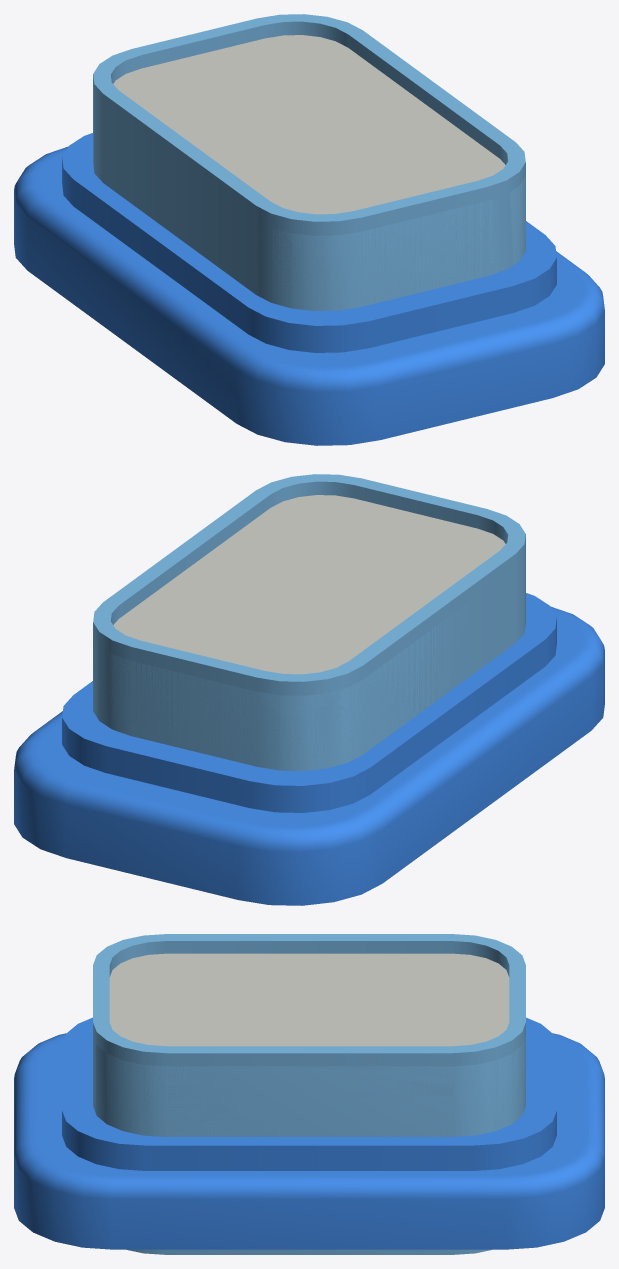
Rendered from ArenaVariant.fbx.
The picture shows the model from 3 angles, top to bottom: view 1: azimuth 30°, elevation 25°; view 2: azimuth 150°, elevation 25°; view 3: azimuth 270°, elevation 25°; orthographic projection. The views are drawn at different scales.
Parts seen in each view (by area): view 1: Cube.013, Cube.014, Cube.011, Cube.012, Cube; view 2: Cube.013, Cube.014, Cube.011, Cube, Cube.012; view 3: Cube.013, Cube, Cube.011, Cube.012, Cube.014.
Part boxes in pixels (<box>): Cube.013: <box>14,146,604,445</box>; Cube.014: <box>93,14,525,310</box>; Cube.011: <box>113,35,505,214</box>; Cube.012: <box>62,133,556,352</box>; Cube: <box>94,23,525,310</box>; Cube.013: <box>14,606,604,905</box>; Cube.014: <box>93,474,525,770</box>; Cube.011: <box>113,495,505,674</box>; Cube: <box>93,483,525,770</box>; Cube.012: <box>62,593,556,812</box>; Cube.013: <box>14,1033,604,1249</box>; Cube: <box>95,942,525,1254</box>; Cube.011: <box>109,953,509,1046</box>; Cube.012: <box>62,1017,556,1170</box>; Cube.014: <box>93,934,525,1253</box>.
Size of the model in its own units: 5733 by 3315 by 8801.
